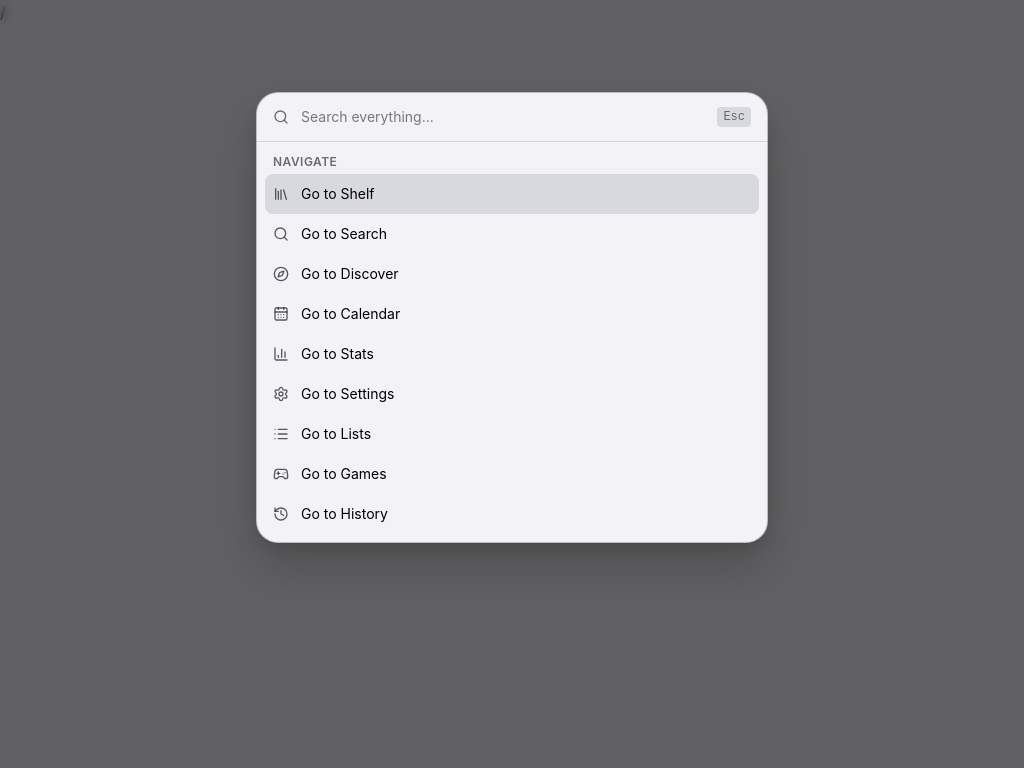
Test: CommandPalette › says search is unavailable instead of reporting no matches
Type "sol" into the dropdown labelled "Search everything" at (503, 117), box [301,107,705,127]
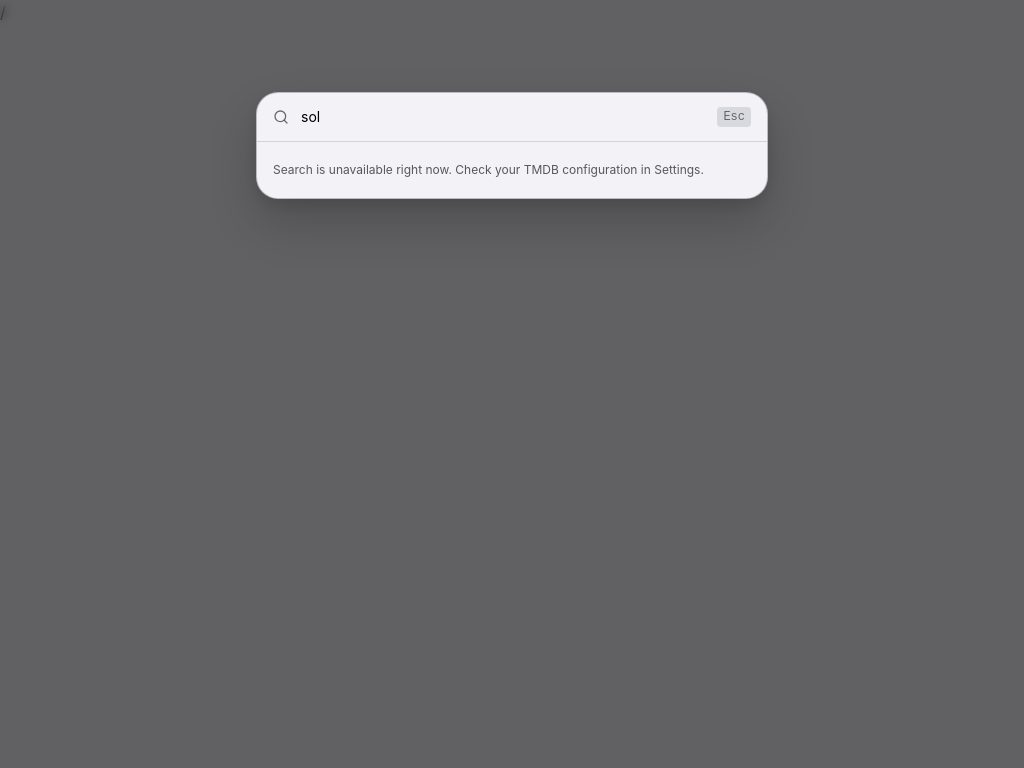
expect the text "Search is unavailable right now" is shown: met, box [273,162,704,177]
